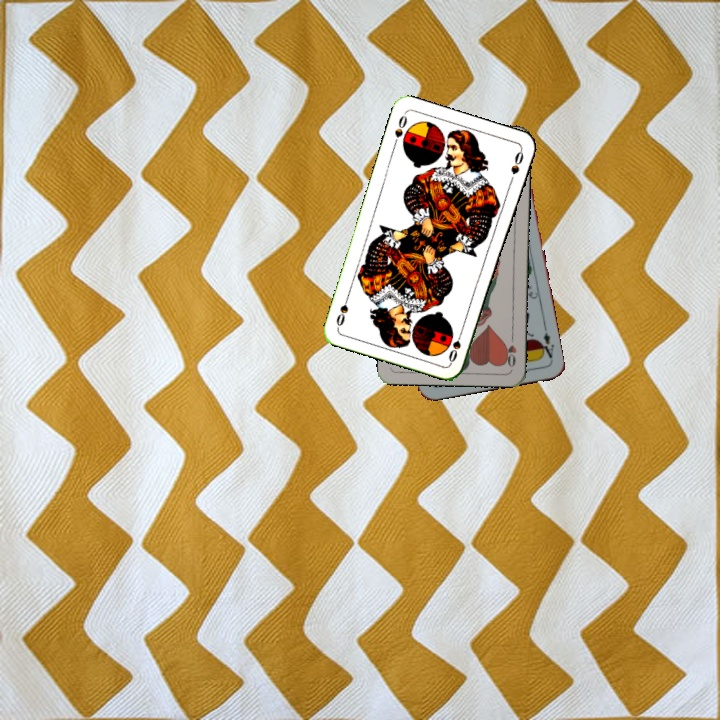EA: (536, 328, 557, 363)
HO: (502, 330, 519, 370)
SO: (445, 325, 466, 365), (389, 110, 410, 149)
